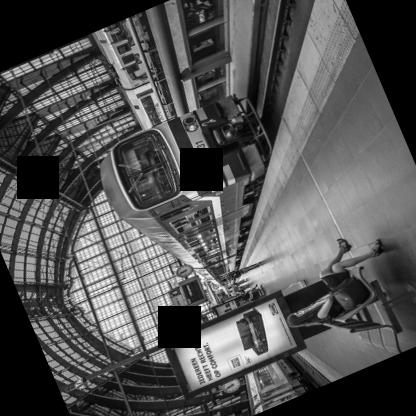backpack: (225, 267, 241, 278)
handbag: (329, 273, 369, 312)
